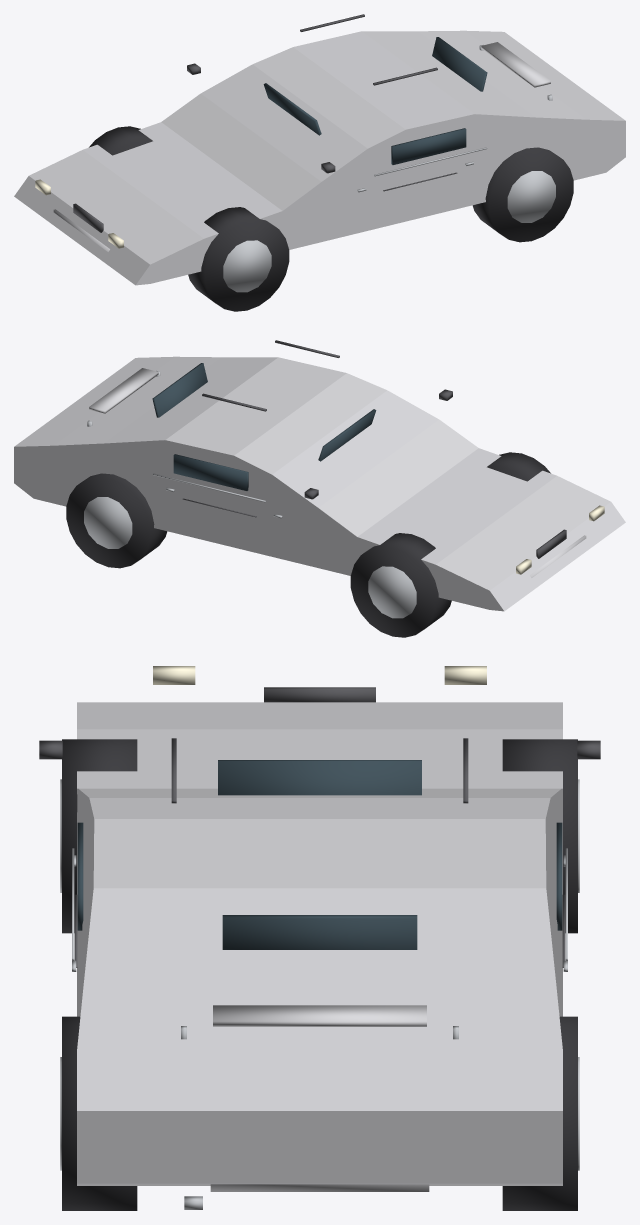
Rendered from sport.glb.
3 renders of one model, top to bottom at view 1: azimuth 30°, elevation 25°; view 2: azimuth 150°, elevation 25°; view 3: azimuth 270°, elevation 25°, orthographic. The views are drawn at different scales.
Visible parts, largest first — view 1: body_main, wheel_front_r, wheel_rear_r, trim_rim__front_r, trim_rim__rear_r, glass_side_r, glass_rear, body_spoiler, wheel_front_l, glass_windshield; view 2: body_main, wheel_front_l, wheel_rear_l, trim_rim__front_l, trim_rim__rear_l, glass_side_l, glass_rear, body_spoiler, wheel_front_r, glass_windshield; view 3: body_main, glass_windshield, glass_rear, body_spoiler, wheel_front_r, wheel_front_l, wheel_rear_l, wheel_rear_r, trim_grille, body_bumper_rear, headlight_l, headlight_r (+2 smaller).
Boxes of the visible parts, x1,y1,x2,y2 form: body_main: (14,30,625,285); wheel_front_r: (188,207,289,311); wheel_rear_r: (472,147,573,242); trim_rim__front_r: (223,240,271,292); trim_rim__rear_r: (507,171,555,222); glass_side_r: (391,128,466,164); glass_rear: (432,37,487,91); body_spoiler: (481,42,550,87); wheel_front_l: (89,126,152,155); glass_windshield: (263,83,321,135); body_main: (14,356,625,611); wheel_front_l: (350,533,451,637); wheel_rear_l: (66,473,167,568); trim_rim__front_l: (368,566,416,618); trim_rim__rear_l: (84,497,132,548); glass_side_l: (173,454,248,490); glass_rear: (152,363,207,417); body_spoiler: (89,368,158,413); wheel_front_r: (487,452,550,481); glass_windshield: (318,409,376,461); body_main: (77,702,562,1185); glass_windshield: (218,760,421,795); glass_rear: (222,915,417,949); body_spoiler: (213,1005,426,1026); wheel_front_r: (62,739,137,933); wheel_front_l: (502,739,577,933); wheel_rear_l: (502,1016,577,1210); wheel_rear_r: (62,1016,137,1210); trim_grille: (264,687,375,702); body_bumper_rear: (210,1184,429,1191); headlight_l: (444,666,486,684); headlight_r: (153,666,195,684).
Bounding box in the file's own units: 4.85 × 1.58 × 2.38.
